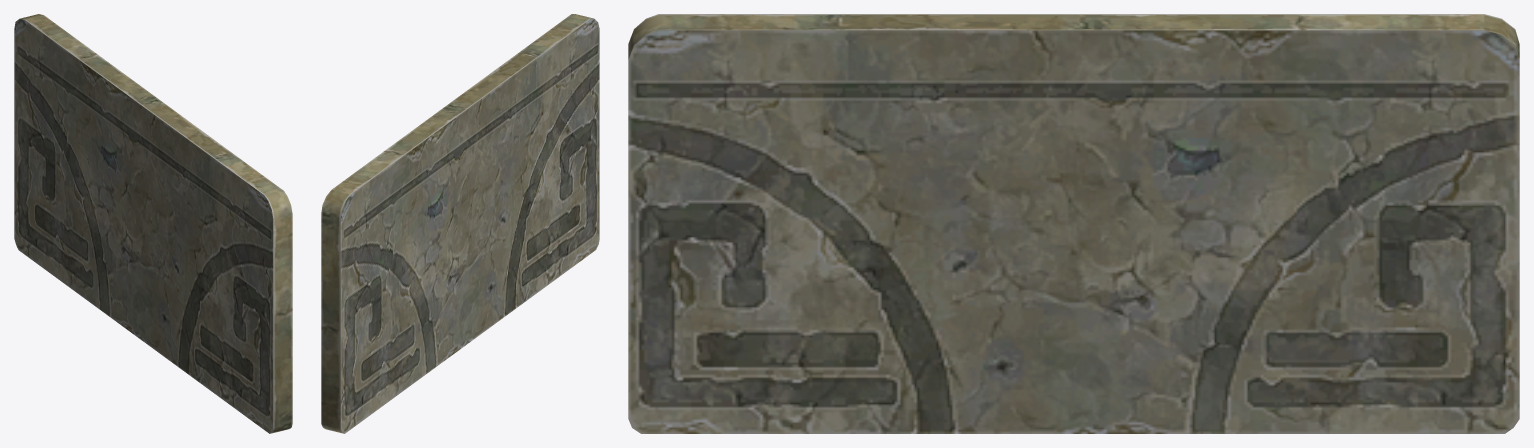
Rendered from all_arch_rakata_wall_set05.glb.
3 views of the same model, side by side, from view 1: azimuth 30°, elevation 25°; view 2: azimuth 150°, elevation 25°; view 3: azimuth 270°, elevation 25° (orthographic). The views are drawn at different scales.
Parts seen in each view (by area): view 1: all_arch_rakata_wall_set05; view 2: all_arch_rakata_wall_set05; view 3: all_arch_rakata_wall_set05.
Part boxes in pixels (<box>): all_arch_rakata_wall_set05: <box>14,14,292,433</box>; all_arch_rakata_wall_set05: <box>321,14,599,433</box>; all_arch_rakata_wall_set05: <box>628,14,1519,433</box>.
Size of the model in its own units: 0.0345 by 0.4 by 0.8.
Materials: 1 (1 with a texture image).
